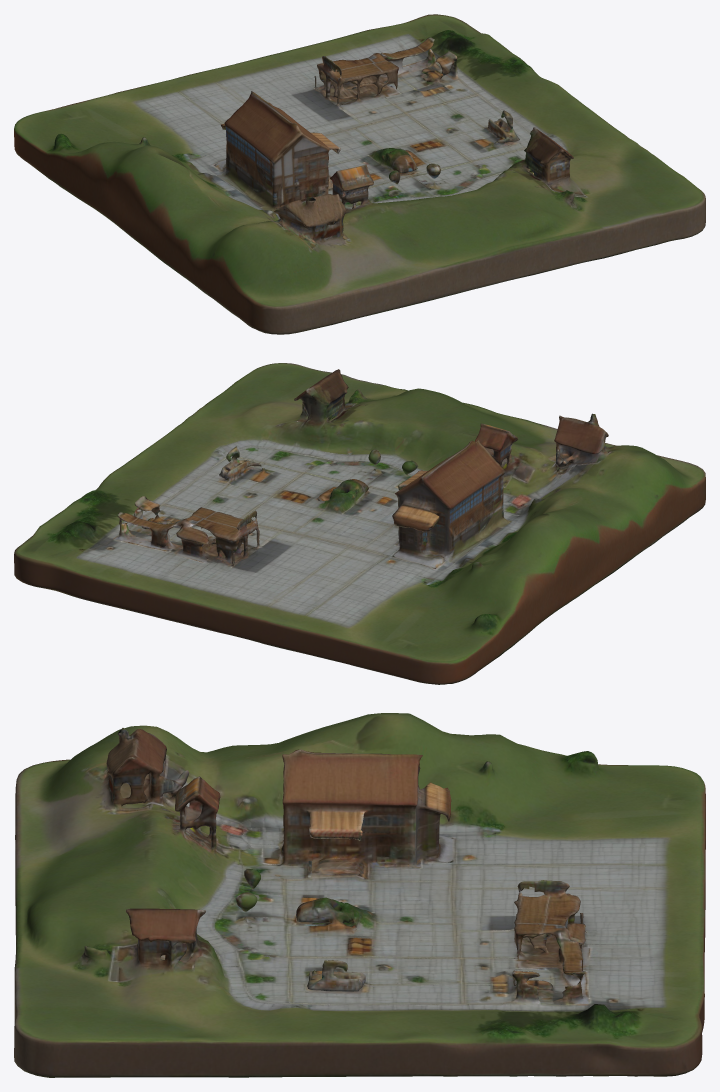
The model's file is lanceModel.glb.
3 renders of one model, top to bottom at view 1: azimuth 30°, elevation 25°; view 2: azimuth 150°, elevation 25°; view 3: azimuth 270°, elevation 25°, orthographic. The views are drawn at different scales.
Bounding box in the file's own units: 1.95 × 0.4284 × 2.
1 material, 1 textured.
